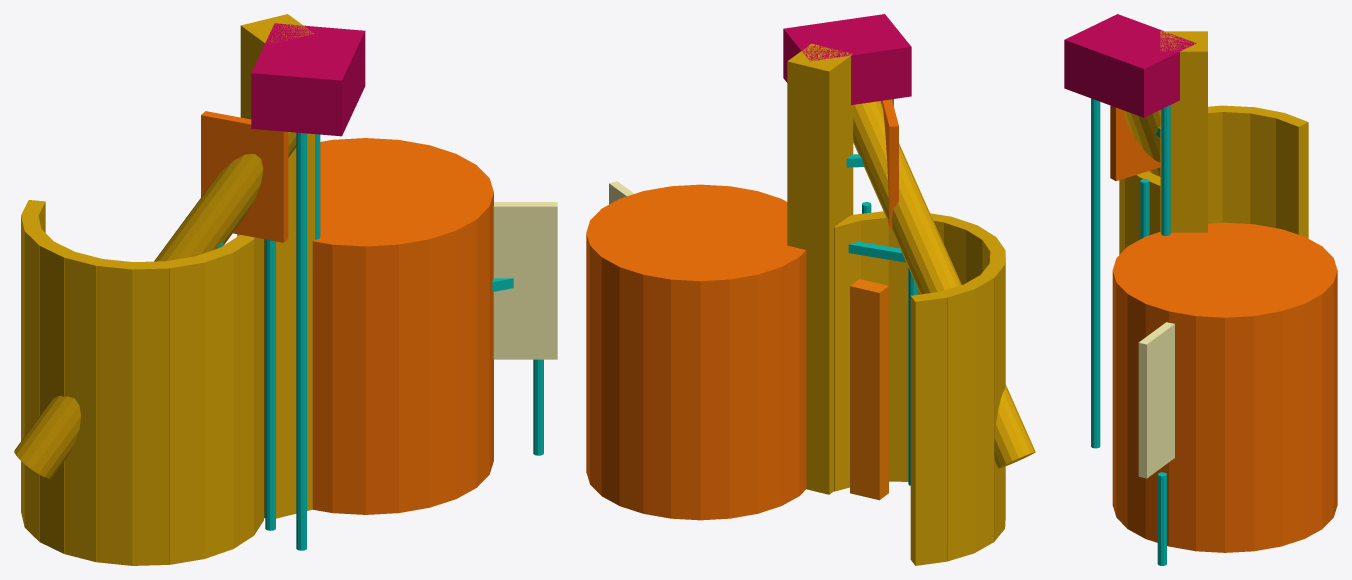
The model's file is folie_tag_017.glb.
3 renders of one model, left to right at view 1: azimuth 30°, elevation 25°; view 2: azimuth 150°, elevation 25°; view 3: azimuth 270°, elevation 25°, orthographic. The views are drawn at different scales.
Parts seen in each view (by area): view 1: folie_tag_017_01_curve, folie_tag_017_00_drum, folie_tag_017_core, folie_tag_017_03_block, folie_tag_017_05_panel, folie_tag_017_line, folie_tag_017_02_tube, folie_tag_017_06_panel; view 2: folie_tag_017_00_drum, folie_tag_017_01_curve, folie_tag_017_core, folie_tag_017_02_tube, folie_tag_017_04_fin, folie_tag_017_03_block, folie_tag_017_line, folie_tag_017_06_panel; view 3: folie_tag_017_00_drum, folie_tag_017_01_curve, folie_tag_017_03_block, folie_tag_017_core, folie_tag_017_line, folie_tag_017_05_panel, folie_tag_017_06_panel, folie_tag_017_02_tube.
Part boxes in pixels (x1=…): folie_tag_017_01_curve: x1=21, y1=200, x2=263, y2=565; folie_tag_017_00_drum: x1=237, y1=138, x2=493, y2=514; folie_tag_017_core: x1=240, y1=14, x2=314, y2=518; folie_tag_017_03_block: x1=251, y1=23, x2=365, y2=136; folie_tag_017_05_panel: x1=493, y1=202, x2=557, y2=359; folie_tag_017_line: x1=217, y1=132, x2=543, y2=550; folie_tag_017_02_tube: x1=14, y1=132, x2=296, y2=478; folie_tag_017_06_panel: x1=201, y1=111, x2=288, y2=242; folie_tag_017_00_drum: x1=586, y1=184, x2=806, y2=520; folie_tag_017_01_curve: x1=834, y1=211, x2=1005, y2=565; folie_tag_017_core: x1=787, y1=43, x2=853, y2=494; folie_tag_017_02_tube: x1=853, y1=101, x2=1035, y2=468; folie_tag_017_04_fin: x1=850, y1=279, x2=888, y2=500; folie_tag_017_03_block: x1=783, y1=14, x2=911, y2=104; folie_tag_017_line: x1=846, y1=99, x2=917, y2=485; folie_tag_017_06_panel: x1=880, y1=99, x2=898, y2=226; folie_tag_017_00_drum: x1=1112, y1=222, x2=1337, y2=552; folie_tag_017_01_curve: x1=1119, y1=105, x2=1308, y2=254; folie_tag_017_03_block: x1=1064, y1=14, x2=1196, y2=117; folie_tag_017_core: x1=1160, y1=31, x2=1207, y2=232; folie_tag_017_line: x1=1091, y1=98, x2=1170, y2=565; folie_tag_017_05_panel: x1=1138, y1=322, x2=1174, y2=478; folie_tag_017_06_panel: x1=1110, y1=105, x2=1160, y2=180; folie_tag_017_02_tube: x1=1122, y1=110, x2=1160, y2=176.
Size of the model in its own units: 11.87 by 10.62 by 6.32.
